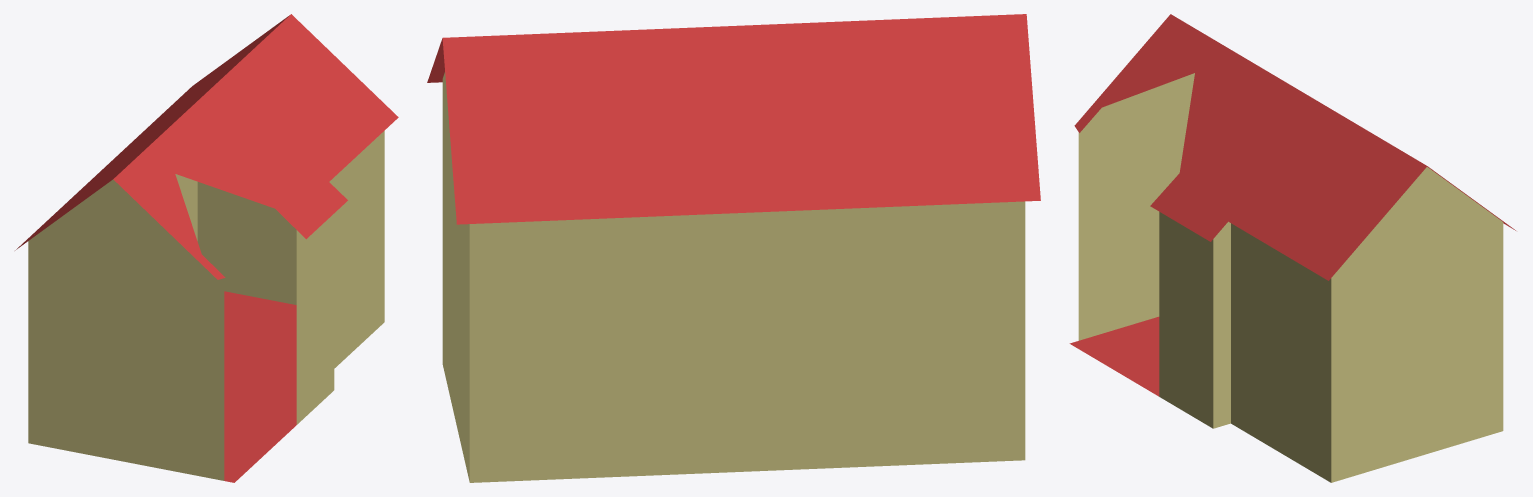
The picture shows the model from 3 angles, left to right: view 1: azimuth 30°, elevation 25°; view 2: azimuth 150°, elevation 25°; view 3: azimuth 270°, elevation 25°; orthographic projection. The views are drawn at different scales.
Size of the model in its own units: 22.79 by 20.66 by 14.89.
